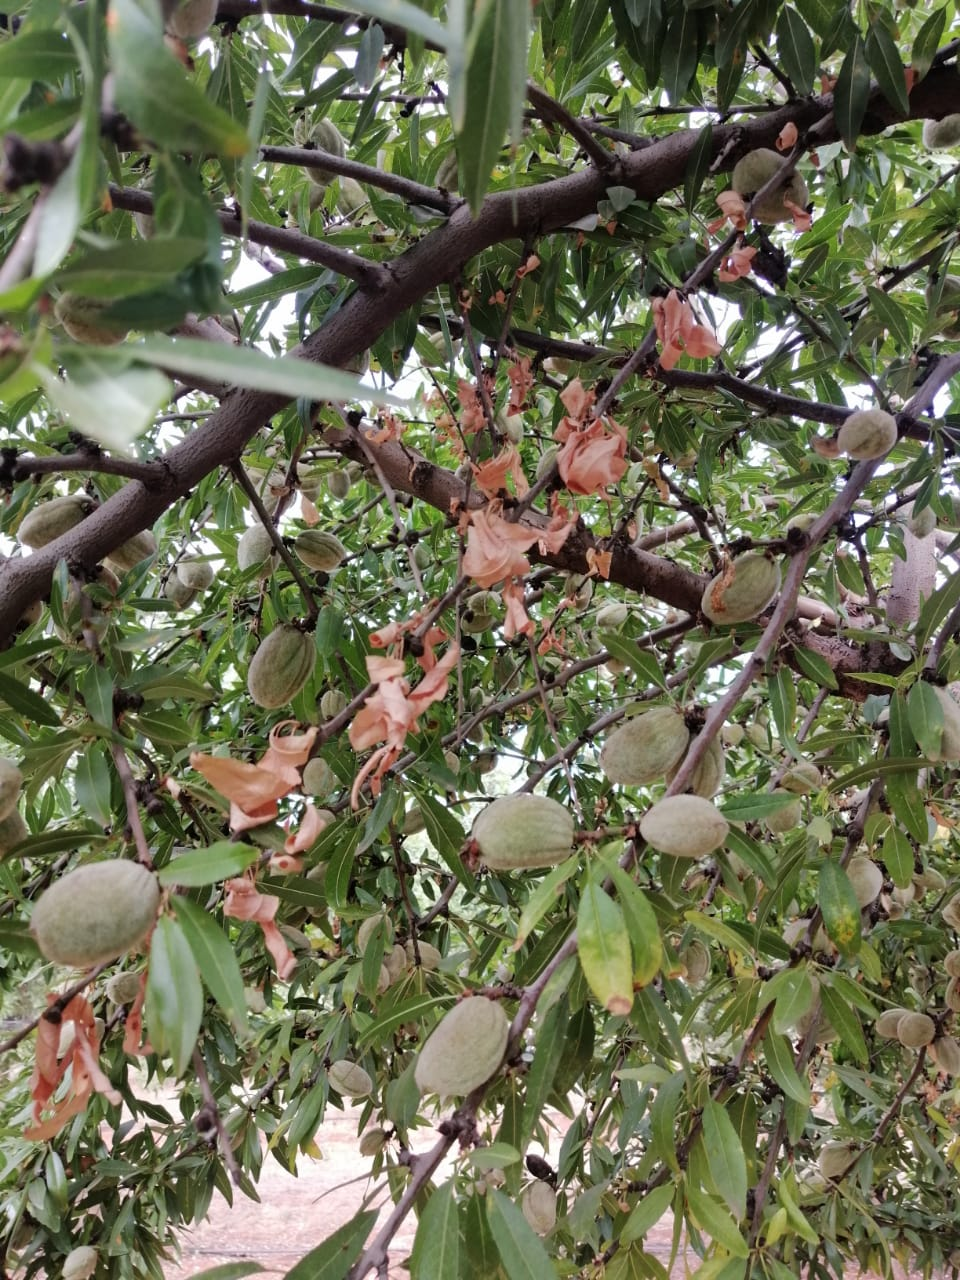chancre fusicocum: (25, 118, 813, 1142)
